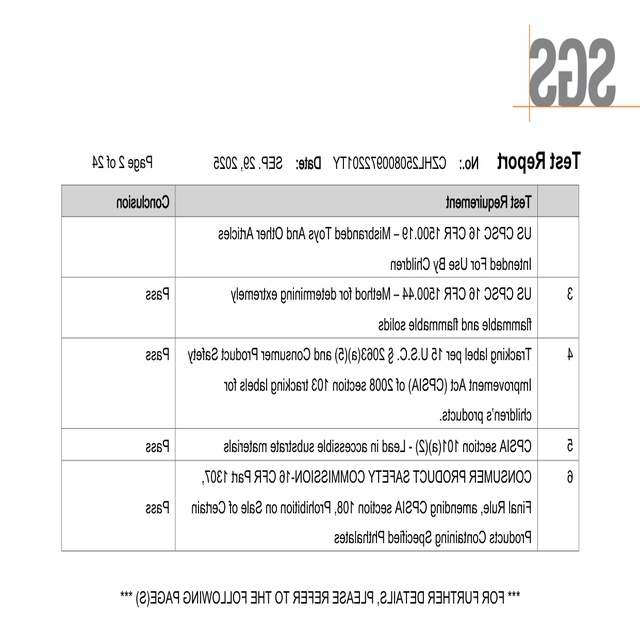sgs: (530, 38, 615, 107)
